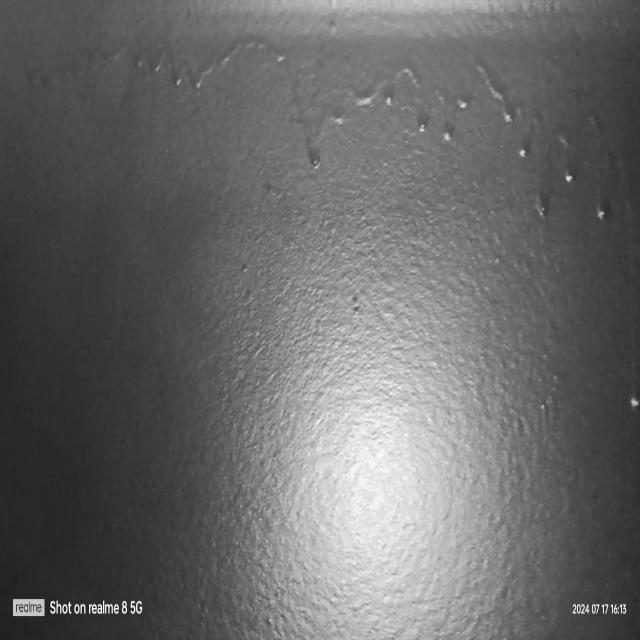paint drips: (92, 24, 640, 428)
